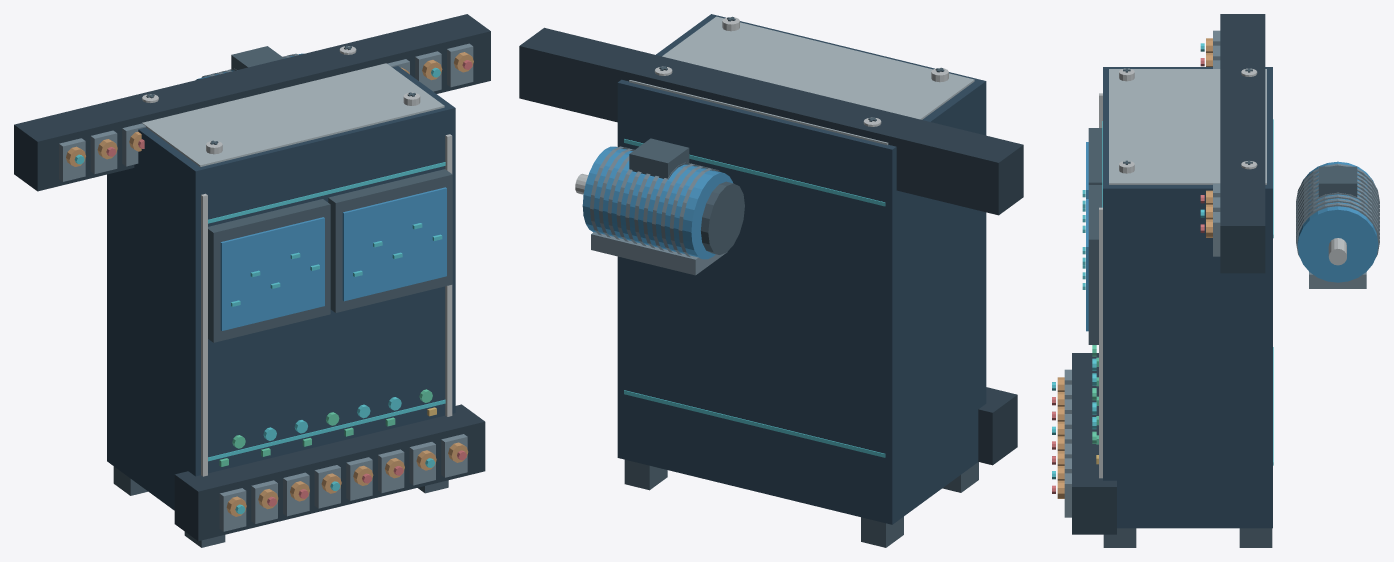
Rendered from 31_L78_LowKRFMatchingAssembly.glb.
3 renders of one model, left to right at view 1: azimuth 30°, elevation 25°; view 2: azimuth 150°, elevation 25°; view 3: azimuth 270°, elevation 25°, orthographic. The views are drawn at different scales.
Parts seen in each view (by area): view 1: LowKRFMatchingAssembly_Node_0000, LowKRFMatchingAssembly_Node_0007, LowKRFMatchingAssembly_Node_0049, LowKRFMatchingAssembly_Node_0080, LowKRFMatchingAssembly_Node_0025, LowKRFMatchingAssembly_Node_0032, LowKRFMatchingAssembly_Node_0105, LowKRFMatchingAssembly_Node_0031, LowKRFMatchingAssembly_Node_0024, LowKRFMatchingAssembly_Node_0005, LowKRFMatchingAssembly_Node_0006, LowKRFMatchingAssembly_Node_0023 (+15 smaller); view 2: LowKRFMatchingAssembly_Node_0000, LowKRFMatchingAssembly_Node_0080, LowKRFMatchingAssembly_Node_0007, LowKRFMatchingAssembly_Node_0105, LowKRFMatchingAssembly_Node_0130, LowKRFMatchingAssembly_Node_0049, LowKRFMatchingAssembly_Node_0143, LowKRFMatchingAssembly_Node_0144, LowKRFMatchingAssembly_Node_0145, LowKRFMatchingAssembly_Node_0020, LowKRFMatchingAssembly_Node_0022, LowKRFMatchingAssembly_Node_0045 (+1 smaller); view 3: LowKRFMatchingAssembly_Node_0000, LowKRFMatchingAssembly_Node_0007, LowKRFMatchingAssembly_Node_0105, LowKRFMatchingAssembly_Node_0080, LowKRFMatchingAssembly_Node_0049, LowKRFMatchingAssembly_Node_0130, LowKRFMatchingAssembly_Node_0031, LowKRFMatchingAssembly_Node_0145, LowKRFMatchingAssembly_Node_0006, LowKRFMatchingAssembly_Node_0024, LowKRFMatchingAssembly_Node_0047, LowKRFMatchingAssembly_Node_0144 (+3 smaller).
Boxes of the visible parts, box(x1,y1,x2,y2) form: LowKRFMatchingAssembly_Node_0000: box(107, 66, 455, 510); LowKRFMatchingAssembly_Node_0007: box(142, 63, 444, 166); LowKRFMatchingAssembly_Node_0049: box(174, 404, 485, 541); LowKRFMatchingAssembly_Node_0080: box(14, 54, 324, 191); LowKRFMatchingAssembly_Node_0025: box(220, 217, 324, 330); LowKRFMatchingAssembly_Node_0032: box(342, 187, 446, 301); LowKRFMatchingAssembly_Node_0105: box(193, 14, 490, 104); LowKRFMatchingAssembly_Node_0031: box(328, 169, 452, 312); LowKRFMatchingAssembly_Node_0024: box(208, 199, 330, 342); LowKRFMatchingAssembly_Node_0005: box(201, 193, 207, 476); LowKRFMatchingAssembly_Node_0006: box(445, 134, 452, 416); LowKRFMatchingAssembly_Node_0023: box(208, 162, 445, 223); LowKRFMatchingAssembly_Node_0000: box(617, 14, 986, 524); LowKRFMatchingAssembly_Node_0080: box(695, 70, 1023, 215); LowKRFMatchingAssembly_Node_0007: box(629, 16, 974, 145); LowKRFMatchingAssembly_Node_0105: box(519, 27, 846, 125); LowKRFMatchingAssembly_Node_0130: box(582, 146, 732, 259); LowKRFMatchingAssembly_Node_0049: box(978, 387, 1017, 465); LowKRFMatchingAssembly_Node_0143: box(700, 181, 744, 254); LowKRFMatchingAssembly_Node_0144: box(591, 232, 727, 275); LowKRFMatchingAssembly_Node_0145: box(629, 138, 689, 179); LowKRFMatchingAssembly_Node_0020: box(624, 390, 885, 457); LowKRFMatchingAssembly_Node_0022: box(624, 139, 885, 206); LowKRFMatchingAssembly_Node_0045: box(861, 516, 903, 547); LowKRFMatchingAssembly_Node_0000: box(1103, 67, 1272, 528); LowKRFMatchingAssembly_Node_0007: box(1109, 69, 1266, 184); LowKRFMatchingAssembly_Node_0105: box(1220, 92, 1265, 273); LowKRFMatchingAssembly_Node_0080: box(1220, 14, 1265, 147); LowKRFMatchingAssembly_Node_0049: box(1072, 353, 1116, 534); LowKRFMatchingAssembly_Node_0130: box(1297, 161, 1378, 282); LowKRFMatchingAssembly_Node_0031: box(1088, 185, 1102, 344); LowKRFMatchingAssembly_Node_0145: box(1318, 166, 1357, 196); LowKRFMatchingAssembly_Node_0006: box(1099, 207, 1102, 478); LowKRFMatchingAssembly_Node_0024: box(1088, 128, 1102, 184); LowKRFMatchingAssembly_Node_0047: box(1239, 528, 1272, 547); LowKRFMatchingAssembly_Node_0144: box(1309, 272, 1366, 288).
Bounding box in the file's own units: 2.01 × 1.65 × 1.31.
